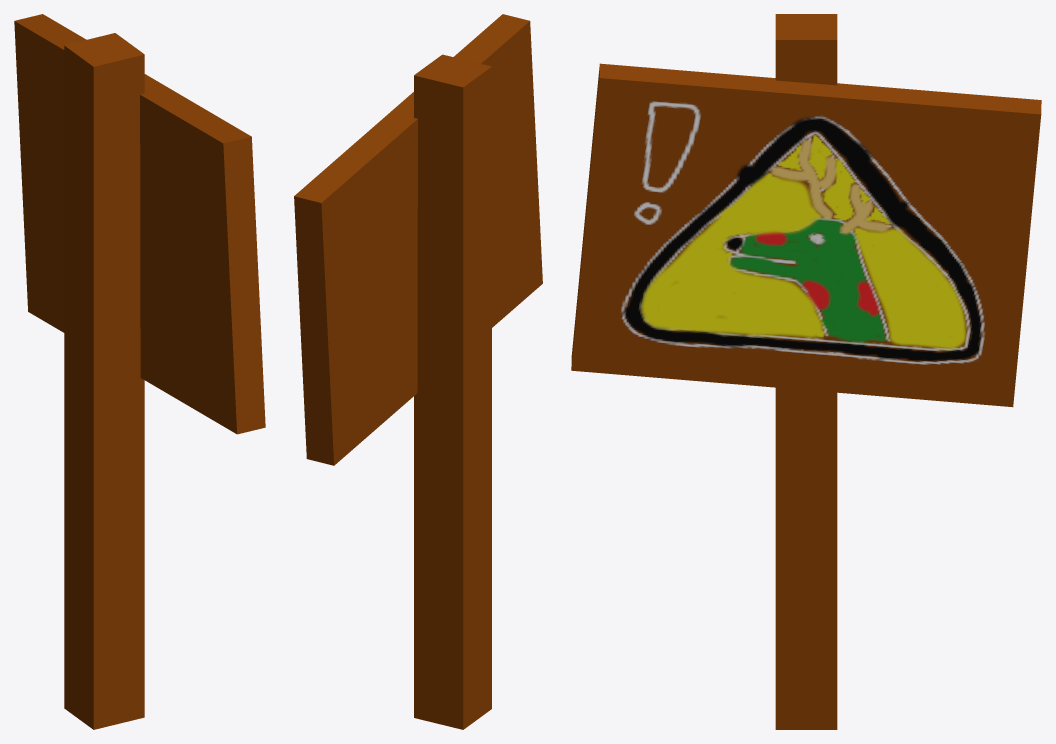
File: deer_sign.glb
3 renders of one model, left to right at view 1: azimuth 30°, elevation 25°; view 2: azimuth 150°, elevation 25°; view 3: azimuth 270°, elevation 25°, orthographic. The views are drawn at different scales.
Parts seen in each view (by area): view 1: sign; view 2: sign; view 3: sign.
Part boxes in pixels (box(x1,y1,x2,y2)): sign: box(14, 14, 265, 729); sign: box(294, 14, 542, 729); sign: box(571, 14, 1041, 729).
Size of the model in its own units: 0.5424 by 4.46 by 2.76.
Materials: 1 (1 with a texture image).
